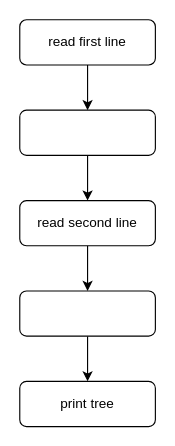
This 175x446 diagram has some shape labels left out. Each missing label, with the centre of its shape:
"delete node" belongs at (87,313).
"insert node" belongs at (87,132).
